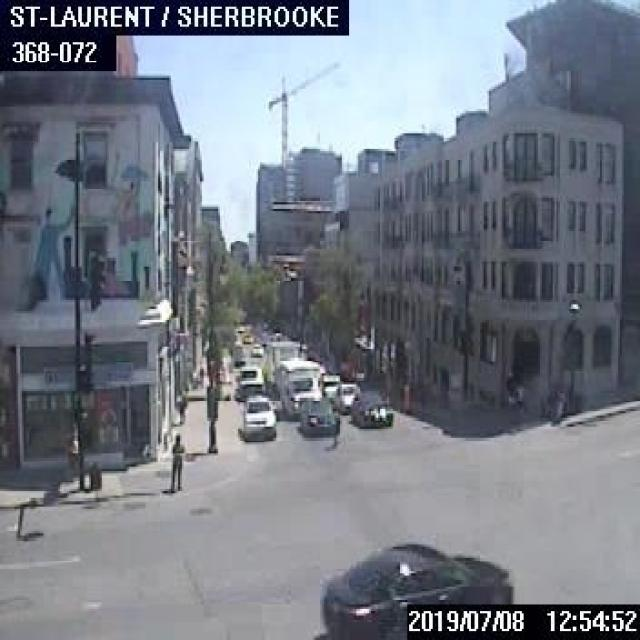pedestrian: (168, 432, 184, 493), (438, 365, 449, 411), (178, 393, 185, 423), (198, 364, 203, 386)
vehicle: (320, 542, 515, 638), (276, 355, 321, 415), (263, 339, 300, 390), (237, 393, 277, 439), (350, 391, 392, 425), (299, 397, 338, 432), (234, 363, 263, 398), (334, 382, 360, 412), (320, 372, 341, 397), (250, 342, 262, 355), (242, 331, 252, 342)
